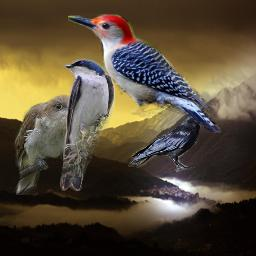Crow: (128, 110, 209, 173)
Cuckoo: (13, 94, 84, 195)
Swallow: (58, 58, 115, 191)
Woodpecker: (68, 14, 221, 133)
